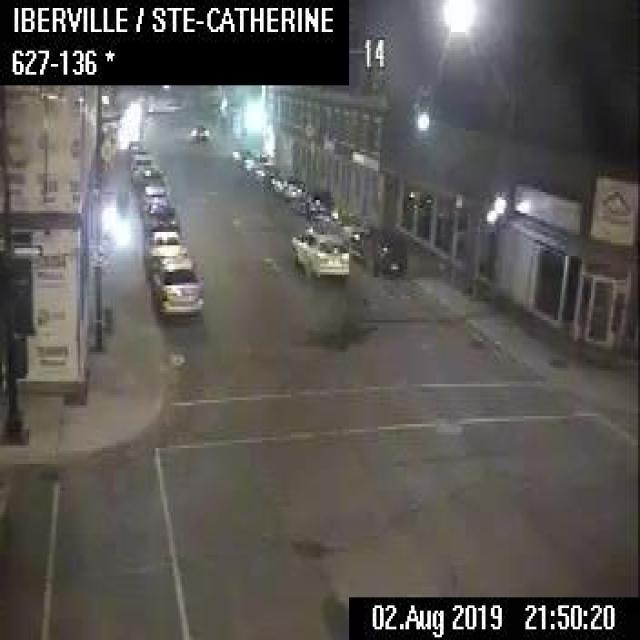vehicle: (151, 253, 204, 323), (290, 219, 348, 277), (348, 222, 404, 278), (141, 228, 182, 276), (139, 197, 179, 236), (304, 189, 340, 221), (184, 120, 213, 146), (128, 161, 160, 183)
